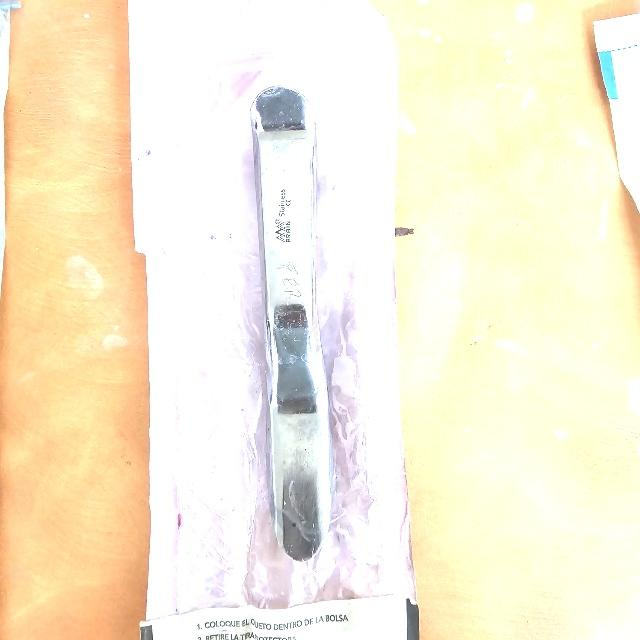separador: (250, 85, 333, 564)
